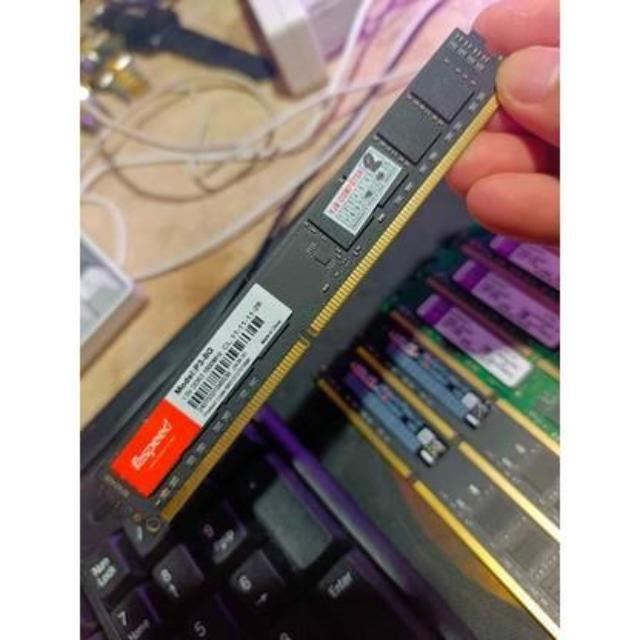RAM: (87, 35, 538, 533)
